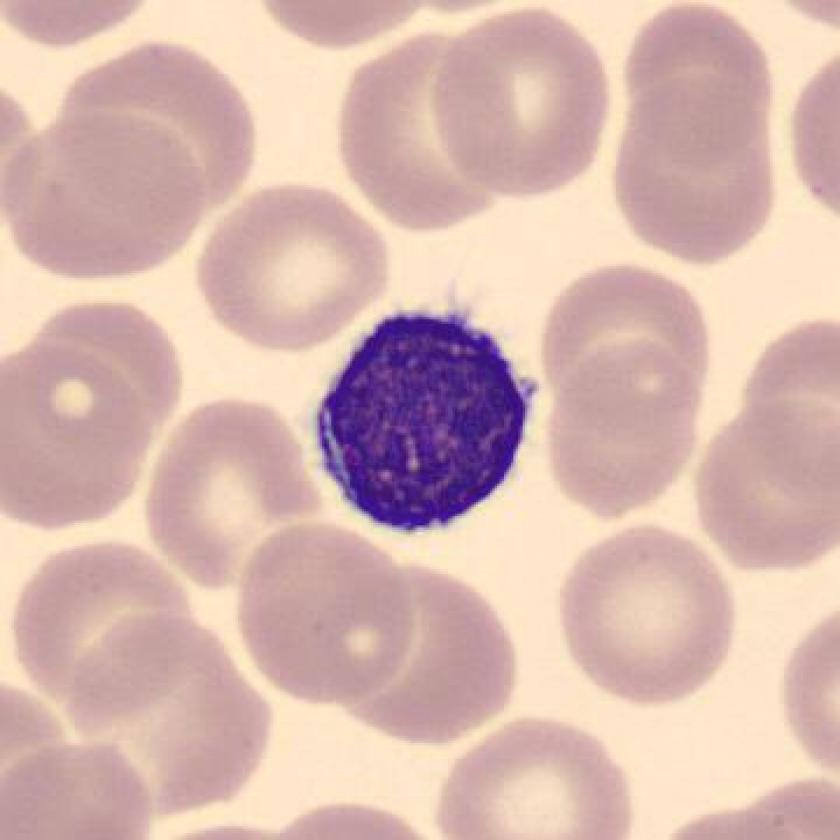lymphocyte: (300, 295, 547, 549)
